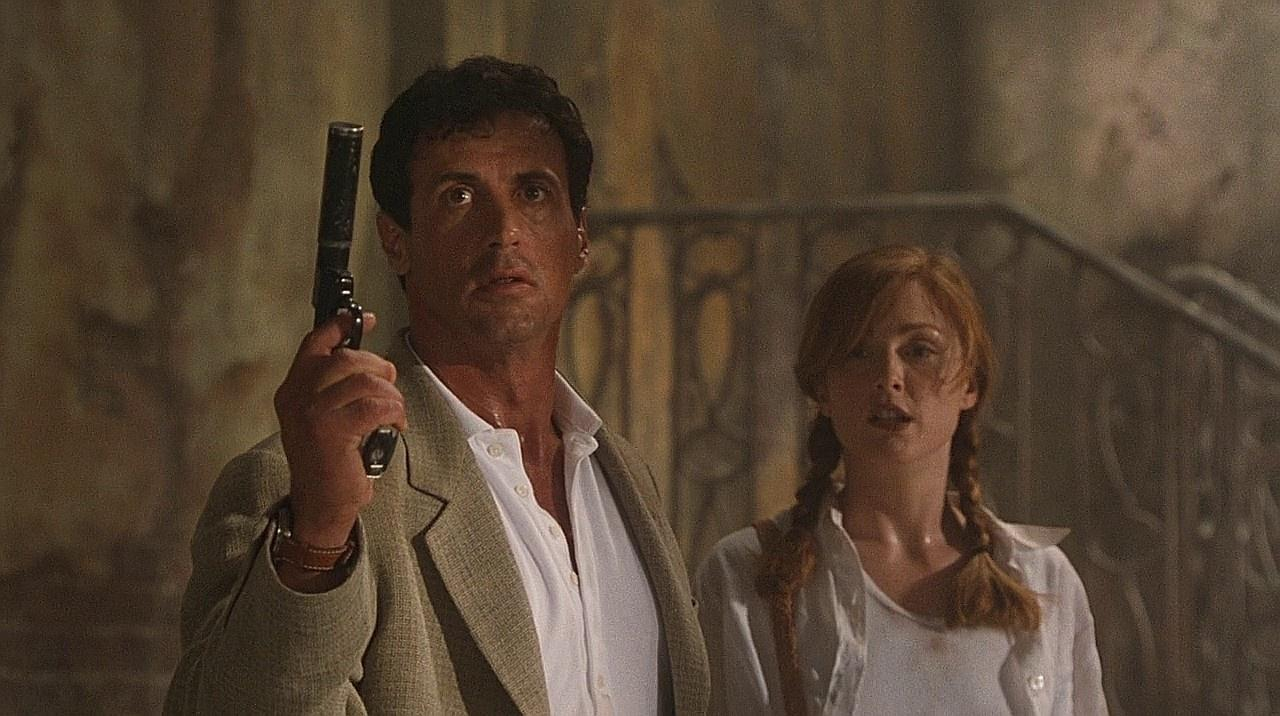gun: (274, 115, 406, 474)
